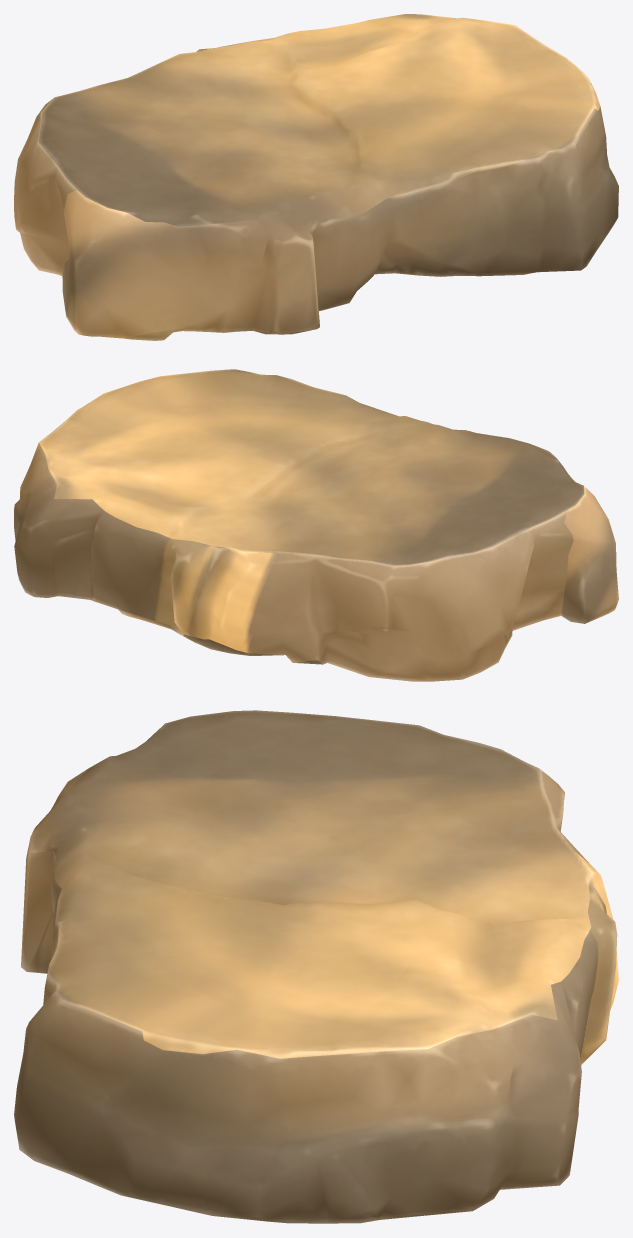
The model's file is SM_Cliff_01.fbx.
The picture shows the model from 3 angles, top to bottom: view 1: azimuth 30°, elevation 25°; view 2: azimuth 150°, elevation 25°; view 3: azimuth 270°, elevation 25°; orthographic projection. The views are drawn at different scales.
Visible parts, largest first — view 1: SM_Cliff_01_LOD0; view 2: SM_Cliff_01_LOD0; view 3: SM_Cliff_01_LOD0.
Part boxes in pixels (box(x1,y1,x2,y2)): SM_Cliff_01_LOD0: box(14, 14, 618, 340); SM_Cliff_01_LOD0: box(14, 369, 618, 681); SM_Cliff_01_LOD0: box(14, 710, 618, 1223).
Size of the model in its own units: 784 by 542 by 174.
